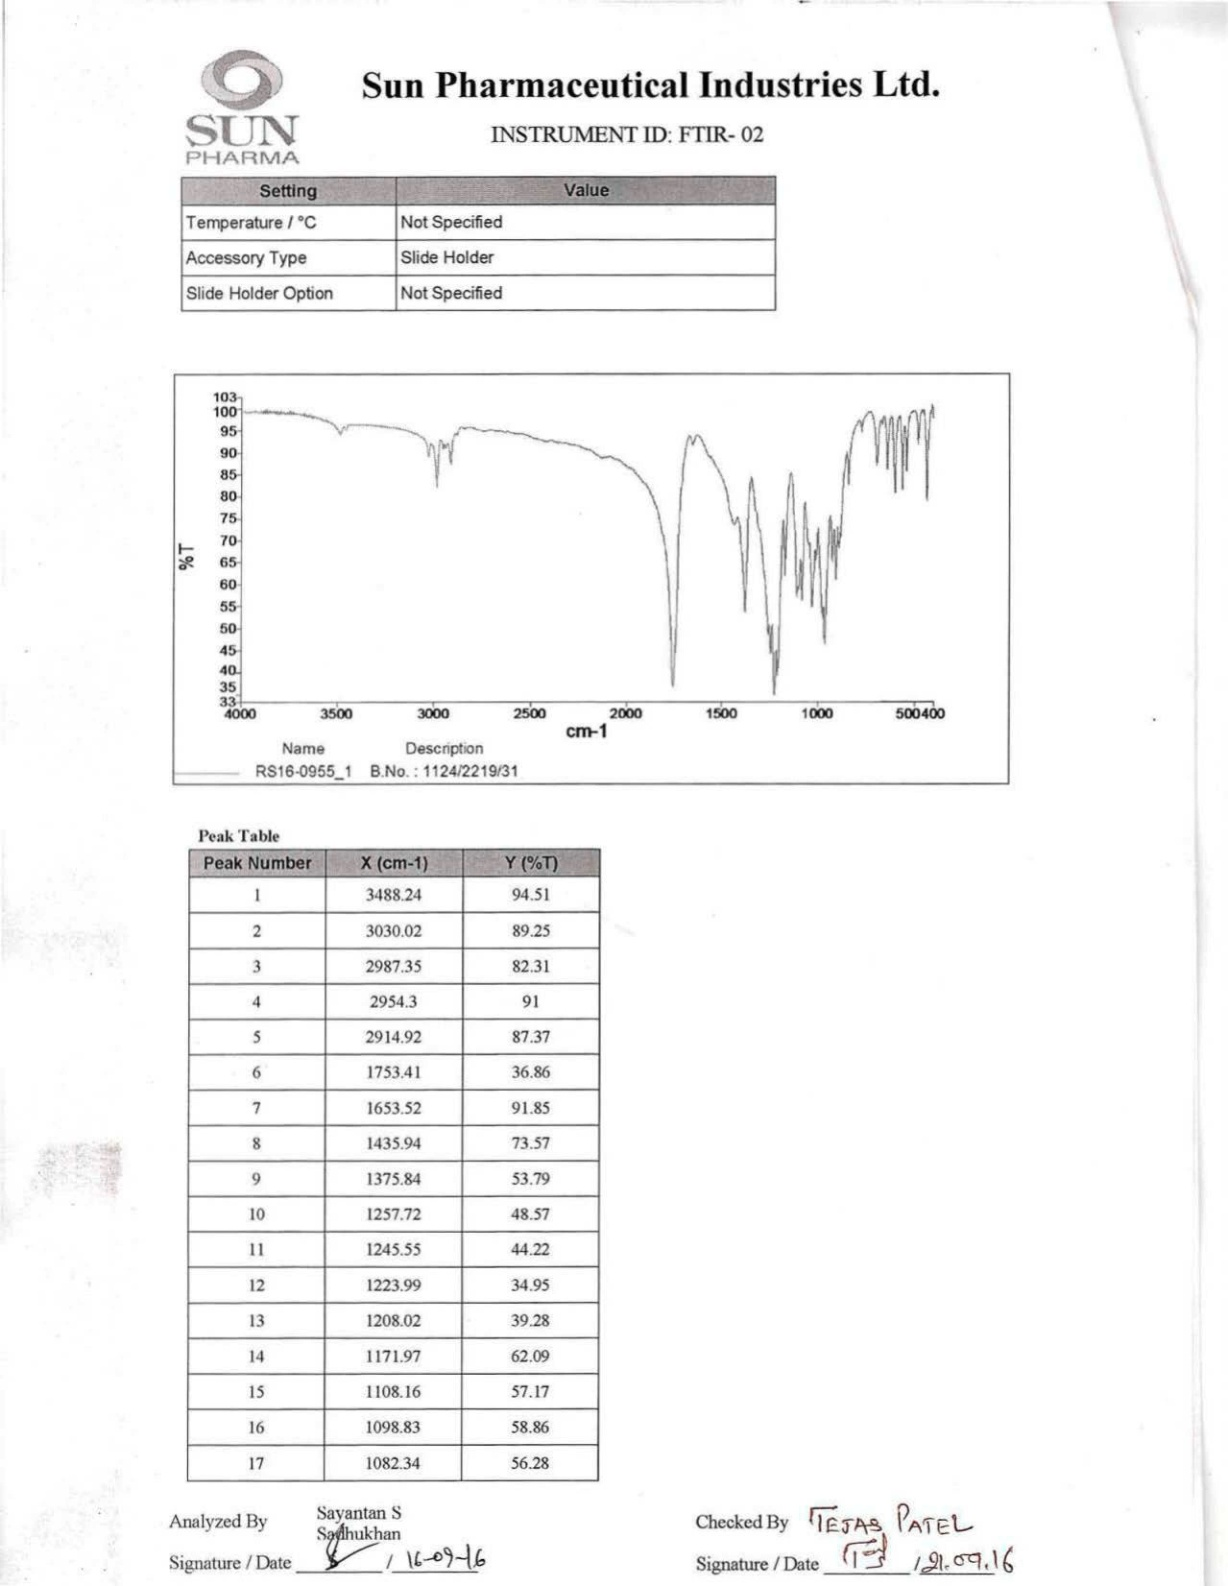full_lined: (185, 847, 600, 1482), (180, 174, 777, 312)
